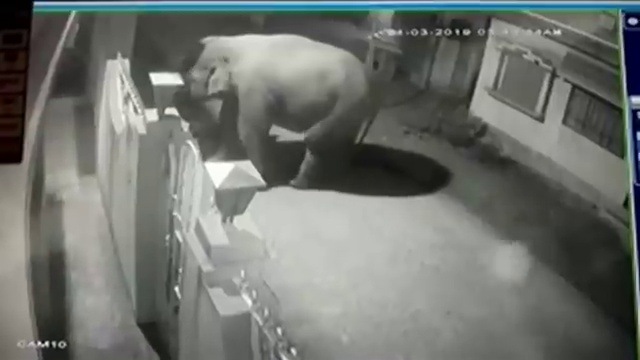Elephant: (185, 34, 377, 190)
